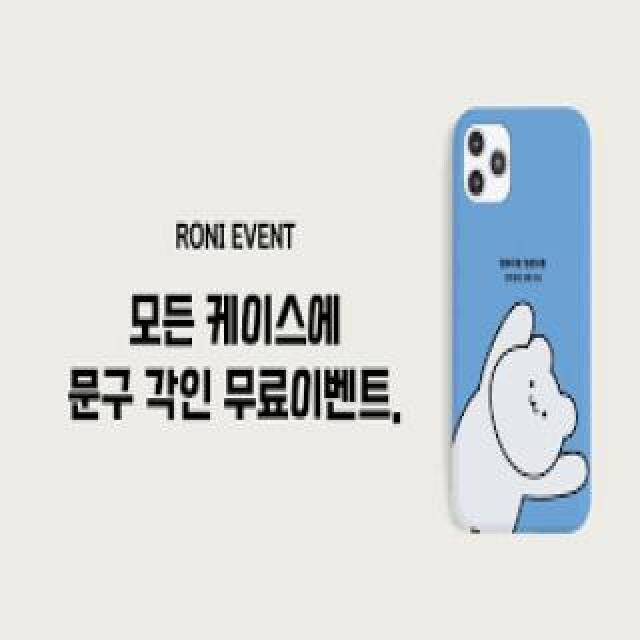smart phone: (420, 75, 623, 565)
